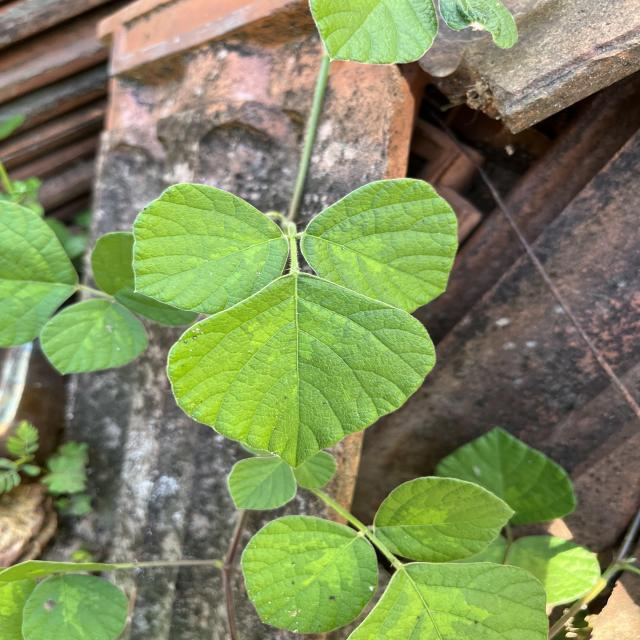Pseudarthria viscida: (128, 177, 460, 470)
